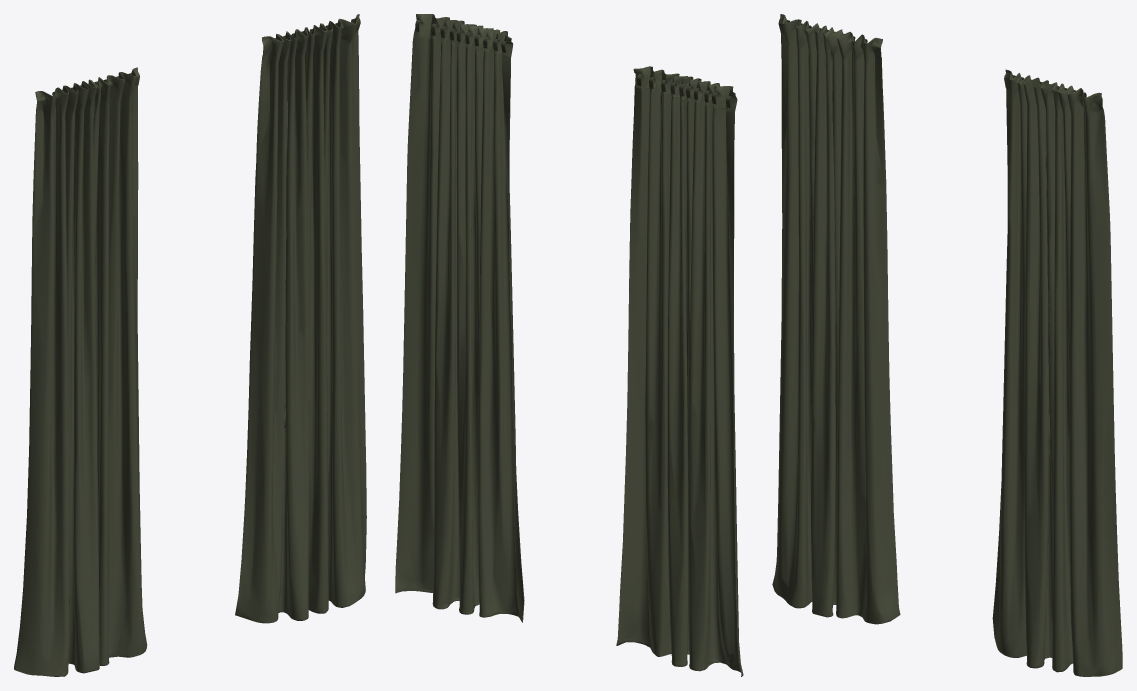
The model's file is majgull_zasony_zaciemniajace_para_30586033.glb.
3 views of the same model, side by side, from view 1: azimuth 30°, elevation 25°; view 2: azimuth 150°, elevation 25°; view 3: azimuth 330°, elevation 25° (orthographic).
Visible parts, largest first — view 1: majgull_zasony_zaciemniajace_para_30586033; view 2: majgull_zasony_zaciemniajace_para_30586033; view 3: majgull_zasony_zaciemniajace_para_30586033.
Part boxes in pixels (bbox=[...]): majgull_zasony_zaciemniajace_para_30586033: bbox=[14, 14, 366, 676]; majgull_zasony_zaciemniajace_para_30586033: bbox=[395, 14, 743, 676]; majgull_zasony_zaciemniajace_para_30586033: bbox=[772, 14, 1122, 676].
Size of the model in its own units: 1.91 by 3.06 by 0.1716.
Materials: 2 (2 with a texture image).
